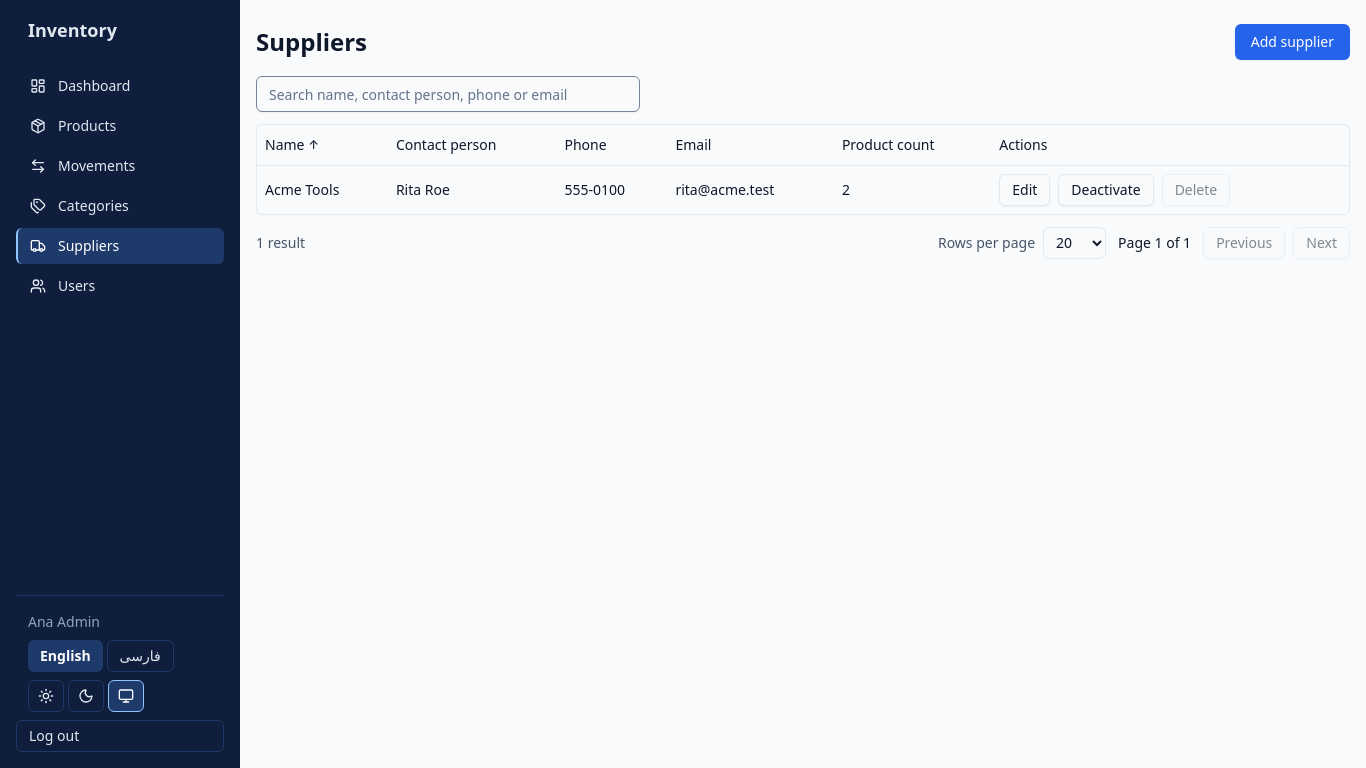
Suppliers page, admin › requires a name and a valid email before sending anything
Click the button "Add supplier" at (1292, 42), box [1235,24,1350,60]
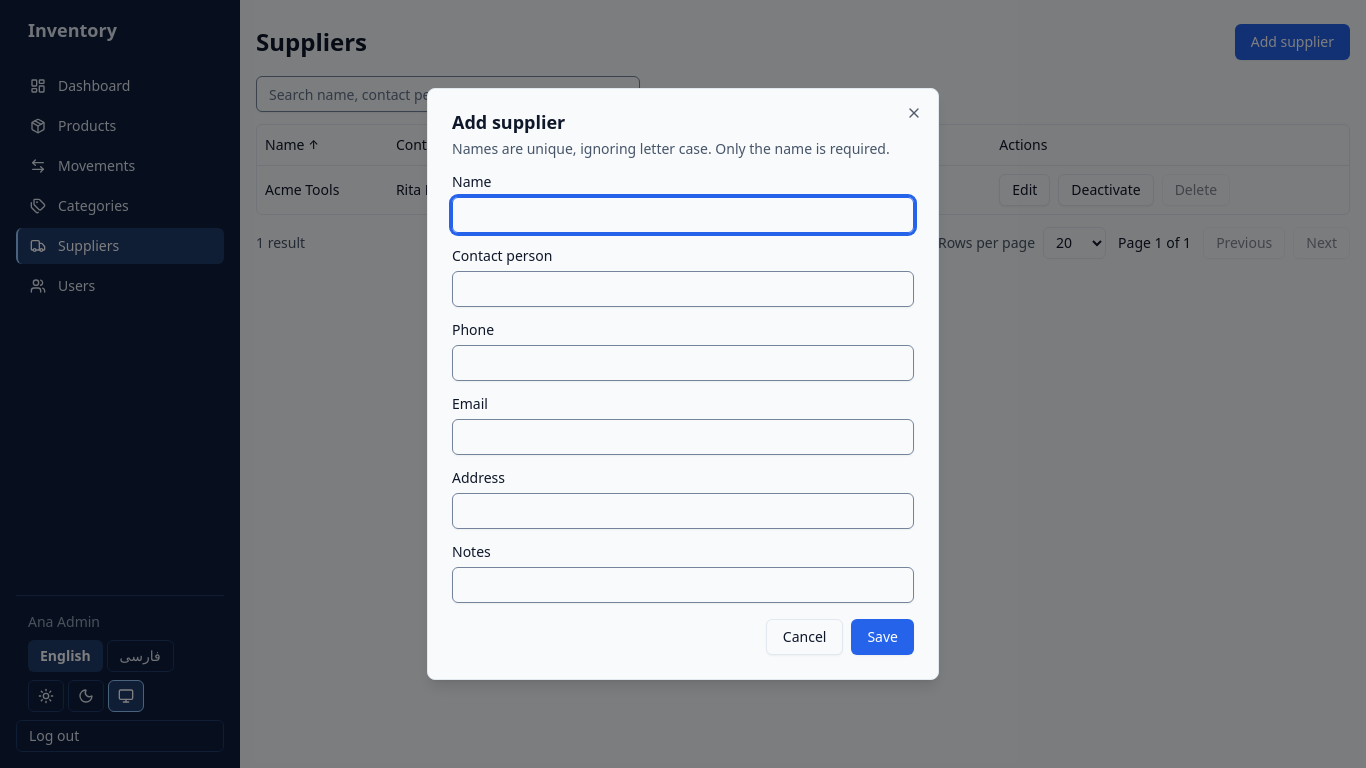
Type "not-an-email" into the field labelled "Email" at (683, 437), box [452,419,914,455]
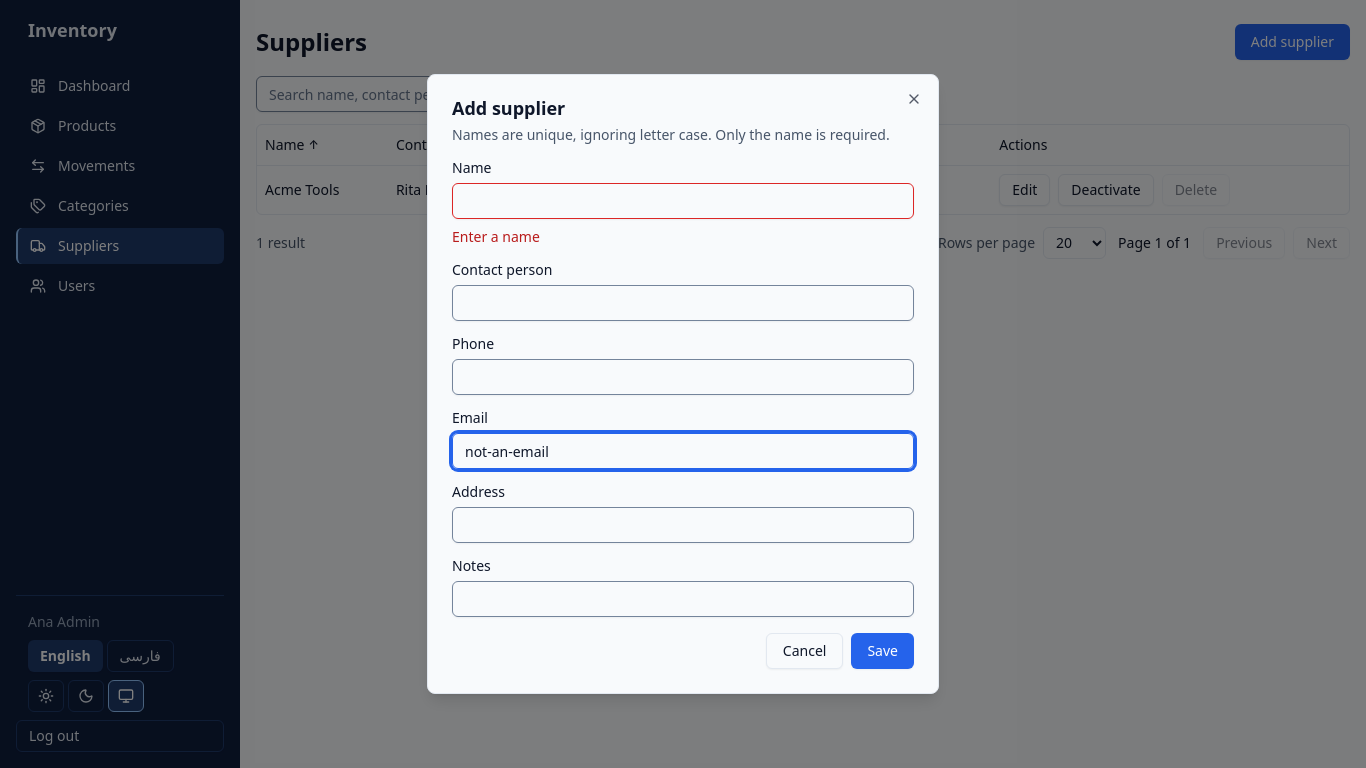
Click the button "Save" at (883, 651), box [851,633,914,669]
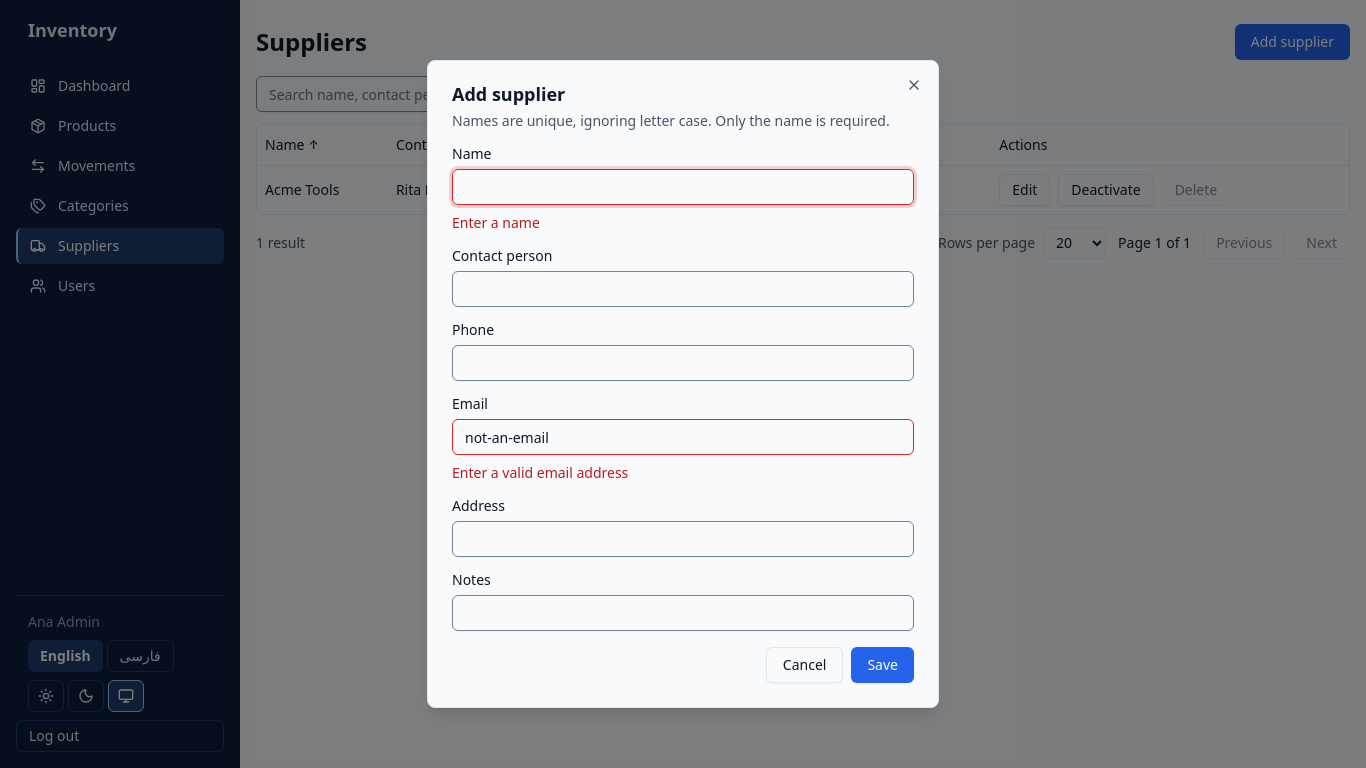
Result: the text "Enter a name" is shown at [452,213,540,232]
Result: the text "Enter a valid email address" is shown at [452,463,628,482]
